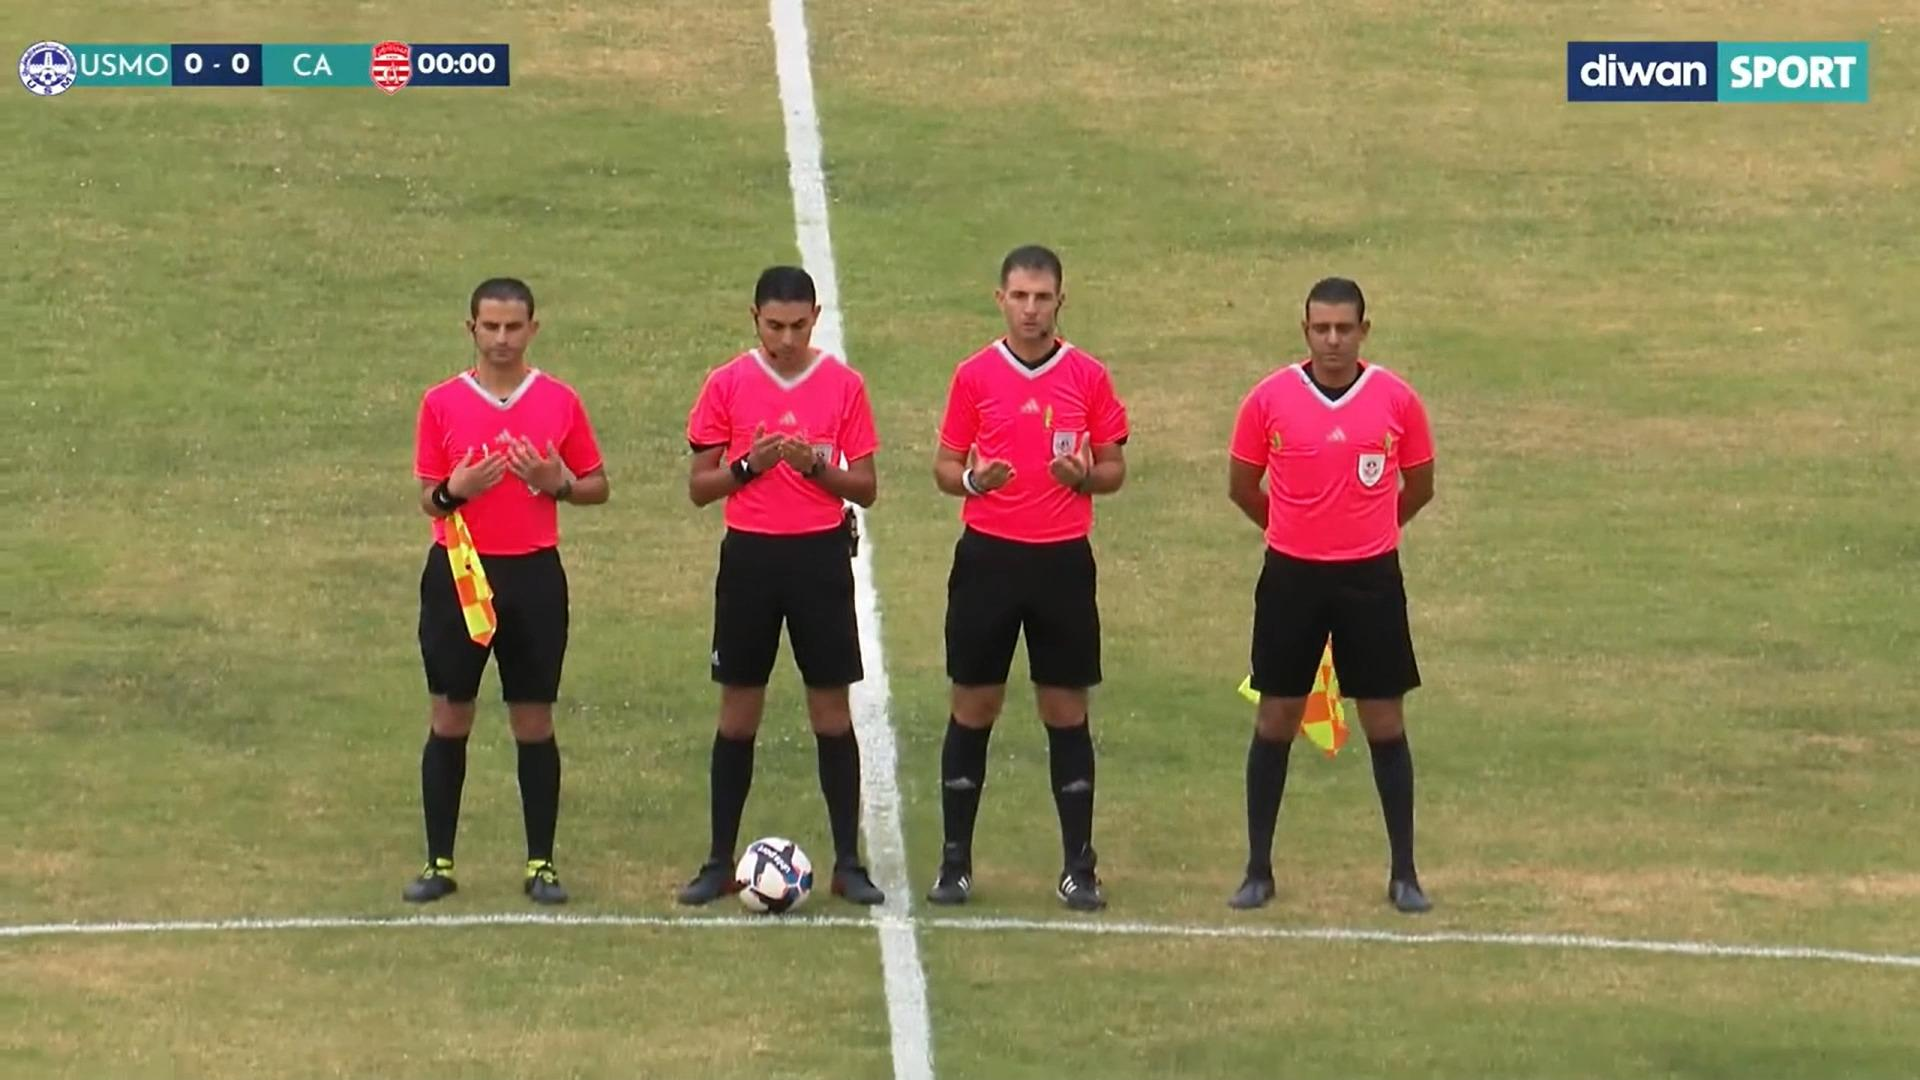referee: (1238, 237, 1476, 931), (360, 251, 595, 915), (935, 248, 1170, 903), (680, 243, 903, 914)
